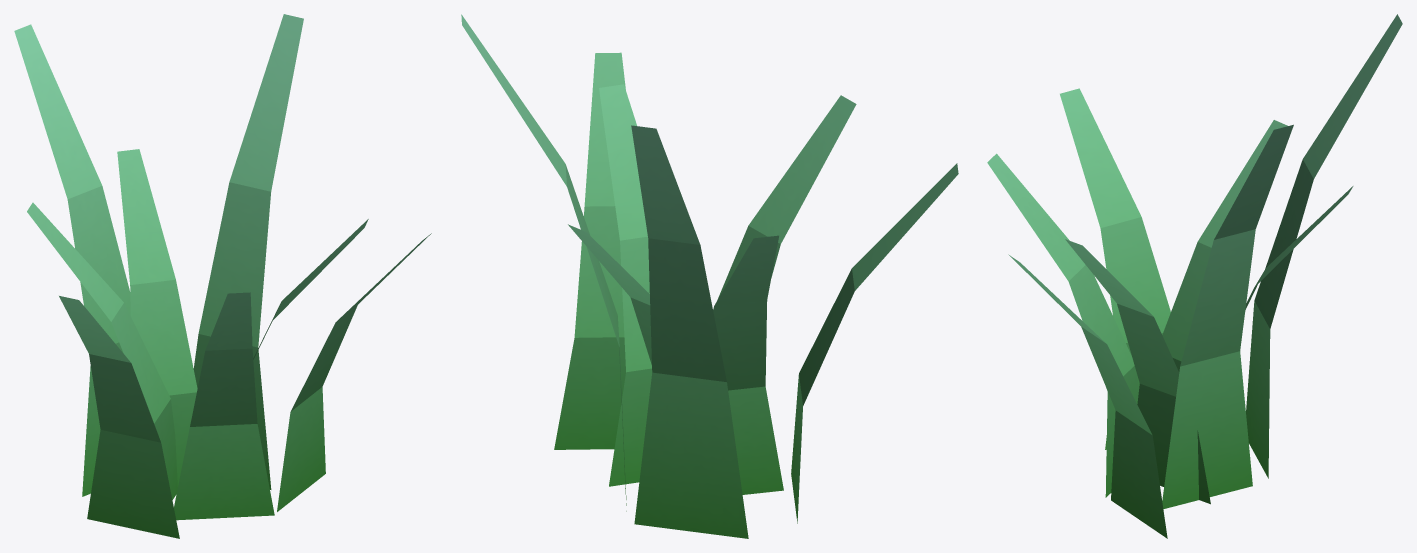
The model's file is yerba2.fbx.
3 renders of one model, left to right at view 1: azimuth 30°, elevation 25°; view 2: azimuth 150°, elevation 25°; view 3: azimuth 270°, elevation 25°, orthographic. The views are drawn at different scales.
Visible parts, largest first — view 1: yerba2; view 2: yerba2; view 3: yerba2.
Part boxes in pixels (left/top/right/bottom): yerba2: left=14, top=14, right=431, bottom=538; yerba2: left=461, top=14, right=958, bottom=538; yerba2: left=987, top=14, right=1402, bottom=538.
Bounding box in the file's own units: 30.45 × 34.57 × 30.72.
Materials: 1 (1 with a texture image).
